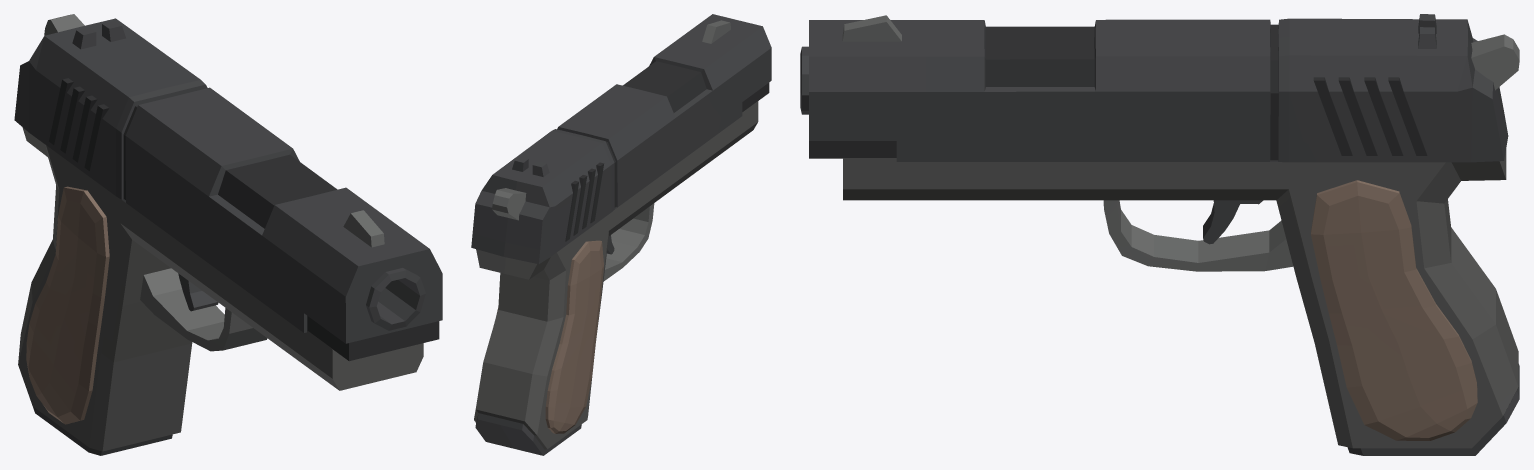
Rendered from pistol_1.glb.
The picture shows the model from 3 angles, left to right: view 1: azimuth 30°, elevation 25°; view 2: azimuth 150°, elevation 25°; view 3: azimuth 270°, elevation 25°; orthographic projection. The views are drawn at different scales.
Visible parts, largest first — view 1: pistol_1; view 2: pistol_1; view 3: pistol_1.
Part boxes in pixels (<box>): pistol_1: <box>14,14,442,455</box>; pistol_1: <box>471,14,771,455</box>; pistol_1: <box>800,14,1519,455</box>.
Size of the model in its own units: 0.0291 by 0.1044 by 0.1636.
